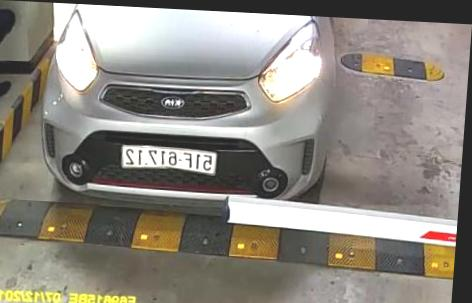License_Plate: (101, 137, 220, 187)
